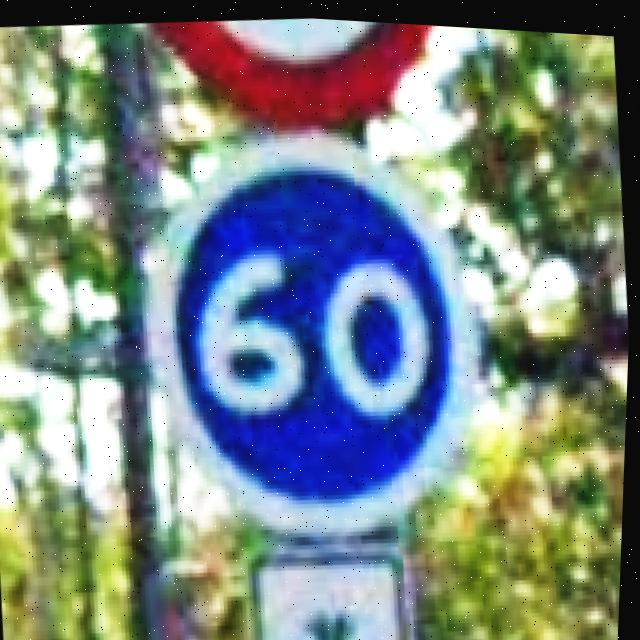min60: (119, 103, 506, 555)
